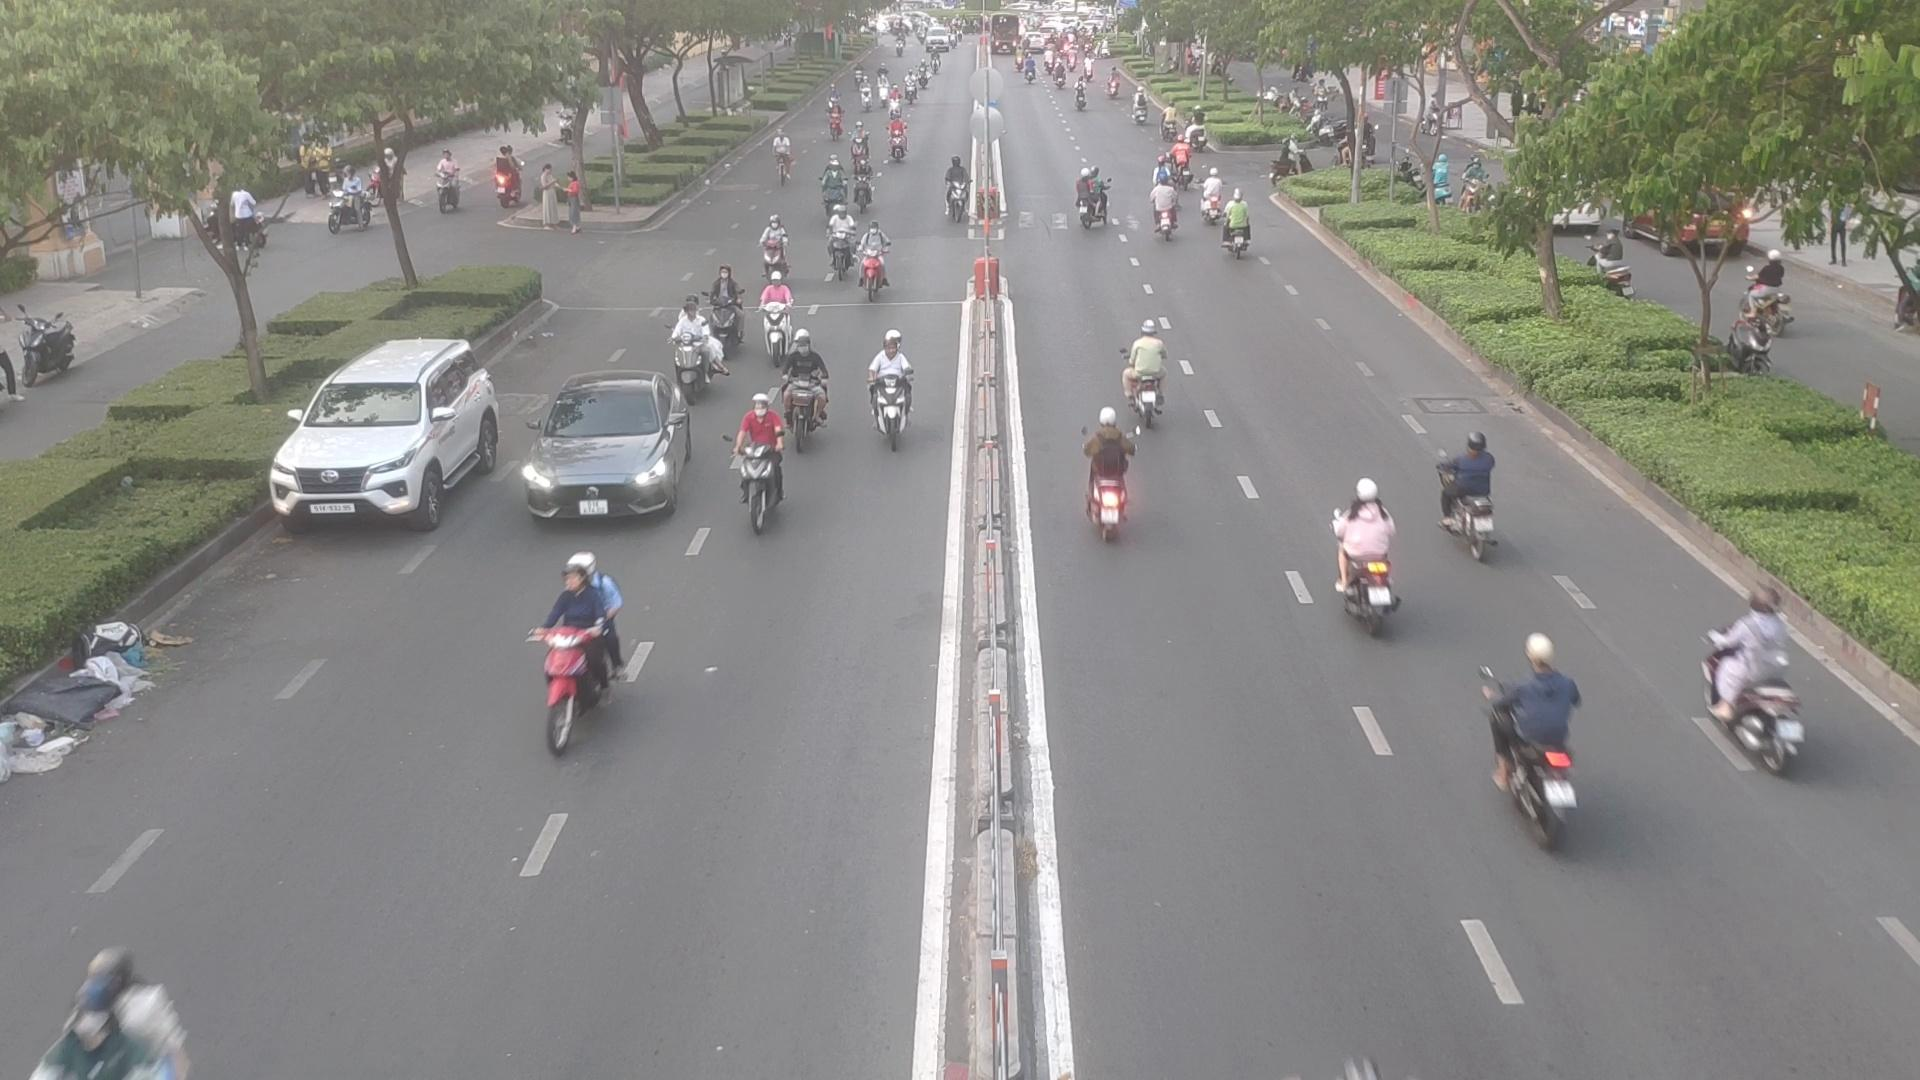car: (272, 339, 516, 531), (524, 378, 698, 524)
motorbike: (13, 953, 189, 1080), (518, 560, 640, 742), (1480, 649, 1582, 844), (1701, 605, 1815, 774), (1321, 487, 1395, 624), (729, 392, 796, 524), (1437, 434, 1507, 549), (1077, 398, 1139, 525), (861, 336, 920, 443), (1121, 324, 1183, 423), (785, 342, 840, 433), (665, 306, 720, 392), (703, 266, 748, 345), (754, 278, 802, 352), (852, 227, 897, 305), (758, 216, 800, 291), (1065, 167, 1113, 232), (1220, 198, 1259, 261), (939, 152, 971, 223), (825, 204, 853, 274), (1199, 167, 1220, 225), (1155, 174, 1172, 237), (855, 156, 870, 218), (1174, 138, 1191, 193), (851, 124, 870, 170), (823, 160, 840, 210), (889, 115, 905, 160)
